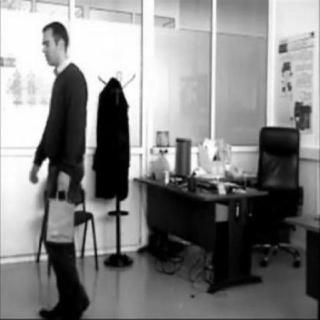other: (40, 195, 76, 247)
